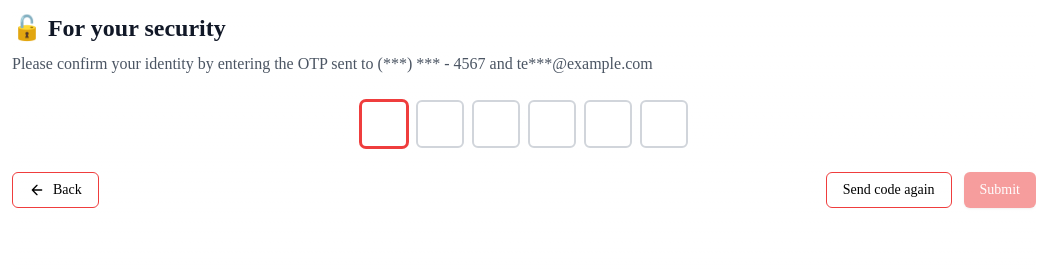
Scenario: OTPStep › should show error for invalid OTP
The image size is (1048, 270).
Type "9" into the 1st field at coordinates (384, 124), box [360, 100, 408, 148]
Type "9" into the 2nd field at coordinates (440, 124), box [416, 100, 464, 148]
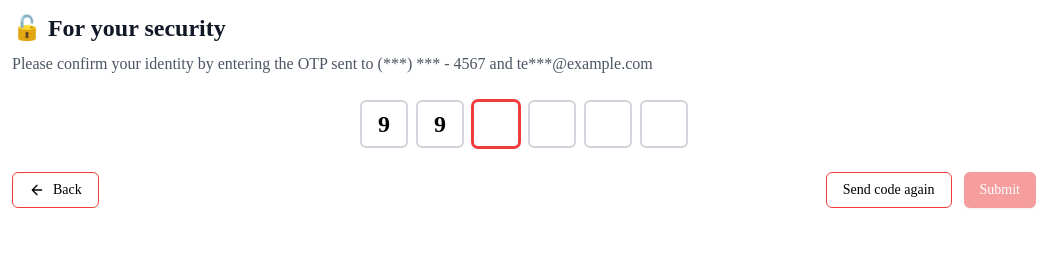
Type "9" into the 3rd field at coordinates (496, 124), box [472, 100, 520, 148]
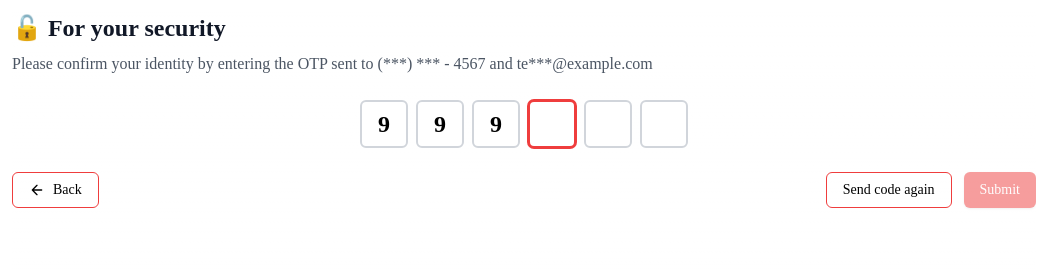
Type "9" into the 4th field at coordinates (552, 124), box [528, 100, 576, 148]
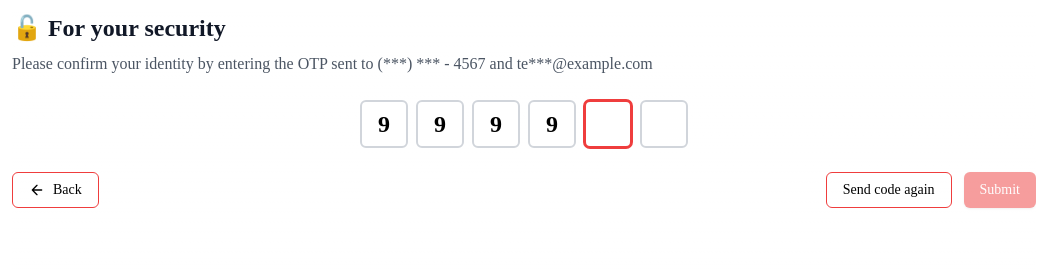
Type "9" into the 5th field at coordinates (608, 124), box [584, 100, 632, 148]
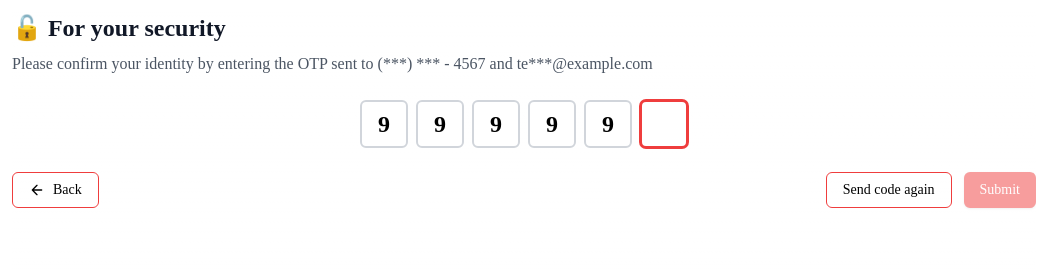
Type "9" into the 6th field at coordinates (664, 124), box [640, 100, 688, 148]
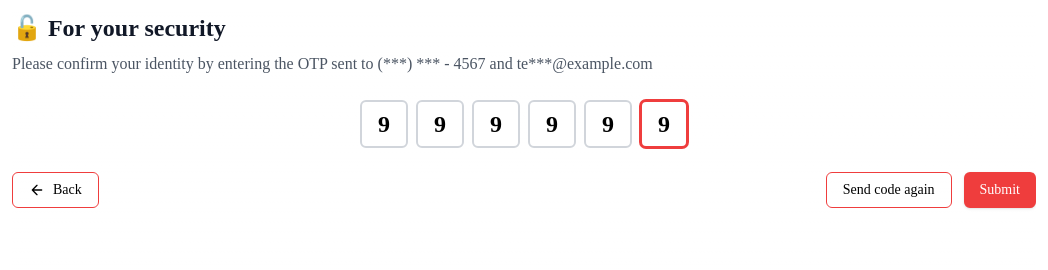
Click the button "Submit" at coordinates (1000, 190), box [964, 172, 1036, 208]
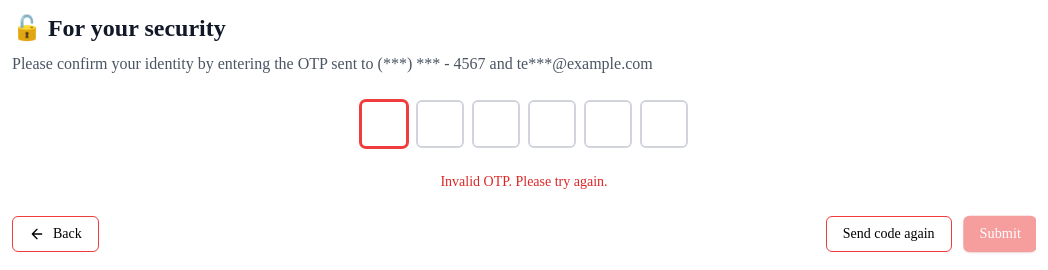
Expected: the text "Invalid OTP. Please try again." is shown, [440, 174, 608, 189]
